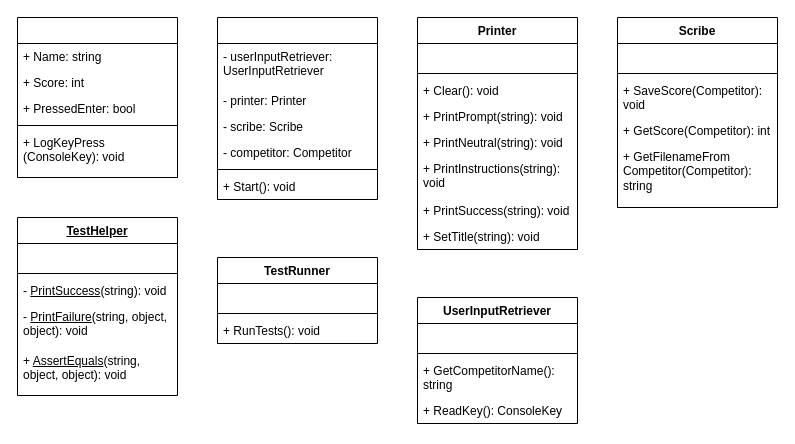
This 795x444 diagram has some shape labels left out. The box of each missing label's shape, as (x1, y1, x2, y2) in pixels:
Competitor: (16, 16, 178, 178)
IslandCompetition: (216, 16, 378, 200)
